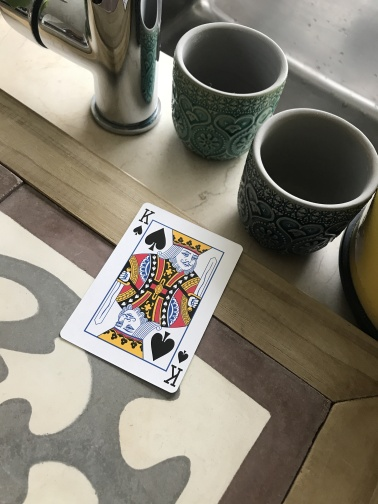king: (58, 201, 245, 397)
